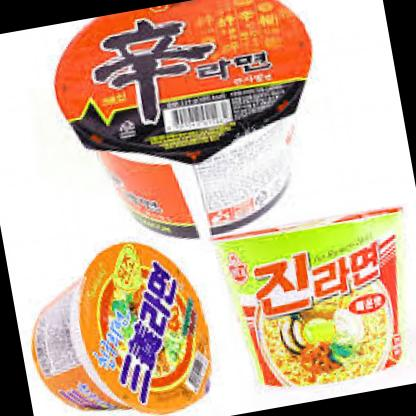Ramen: (50, 0, 330, 259), (209, 198, 416, 401), (16, 227, 226, 416)
